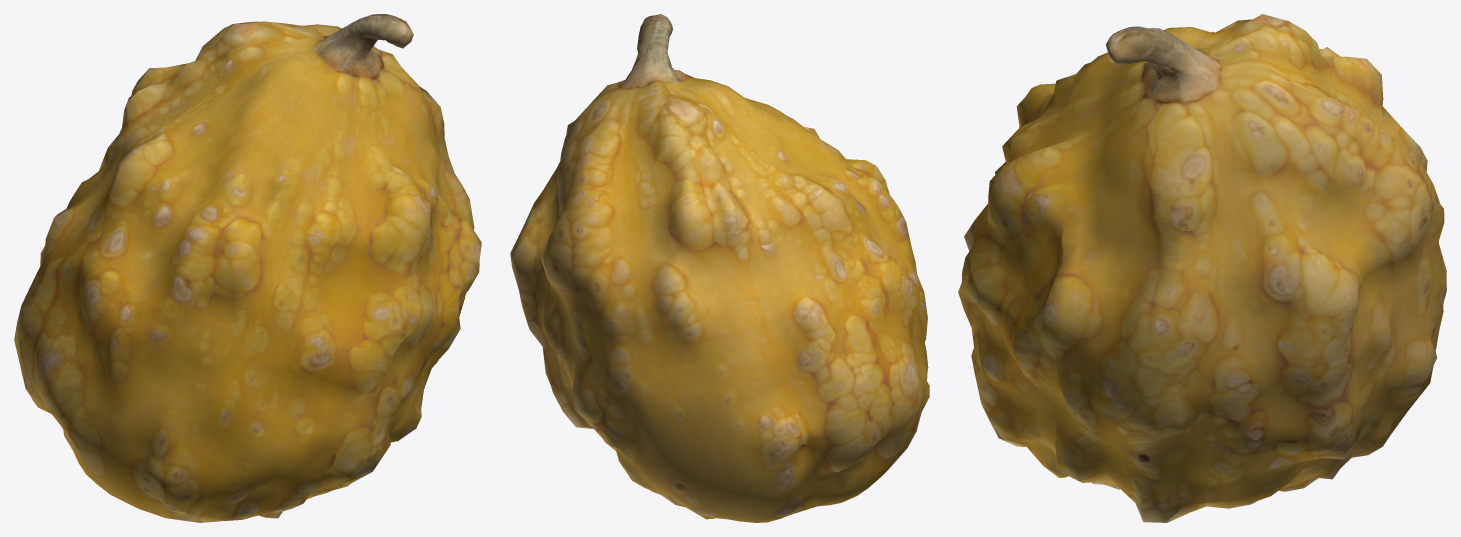
The model's file is gourd.fbx.
3 views of the same model, side by side, from view 1: azimuth 30°, elevation 25°; view 2: azimuth 150°, elevation 25°; view 3: azimuth 270°, elevation 25° (orthographic). The views are drawn at different scales.
Parts seen in each view (by area): view 1: Decorative Gourd; view 2: Decorative Gourd; view 3: Decorative Gourd.
Boxes of the visible parts, box(x1,y1,x2,y2) form: Decorative Gourd: box(14, 14, 481, 522); Decorative Gourd: box(510, 14, 929, 522); Decorative Gourd: box(958, 14, 1446, 522).
Bounding box in the file's own units: 11.32 × 12.38 × 10.31.
1 material, 1 textured.
